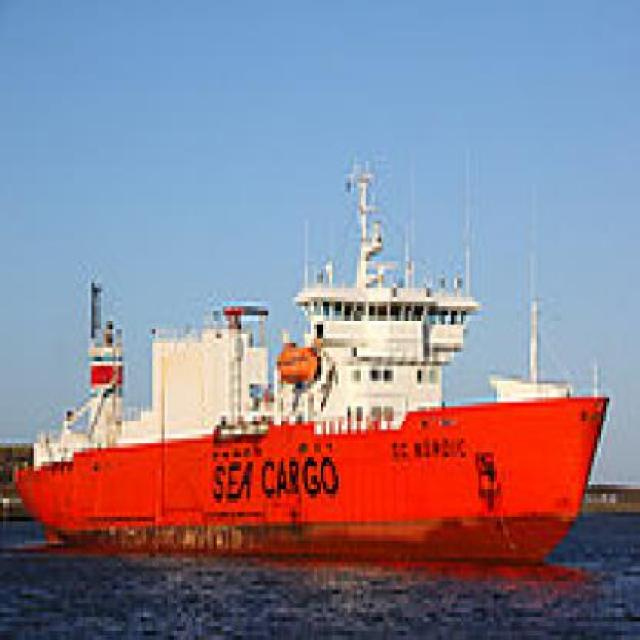container: (14, 156, 617, 577)
